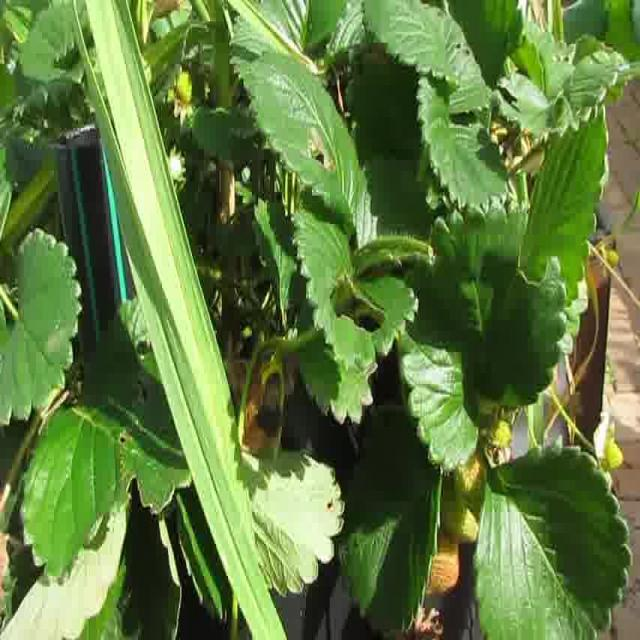Fruta sana: (437, 473, 480, 542), (422, 521, 459, 595), (453, 448, 488, 520), (483, 417, 513, 449), (600, 438, 625, 471), (176, 70, 192, 106), (604, 248, 620, 269)
Moho gris: (0, 530, 11, 606)
